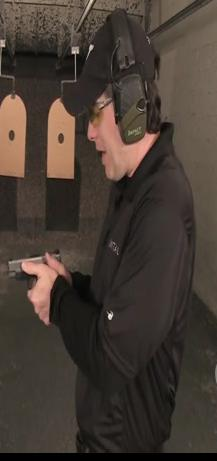pistol: (6, 249, 63, 313)
